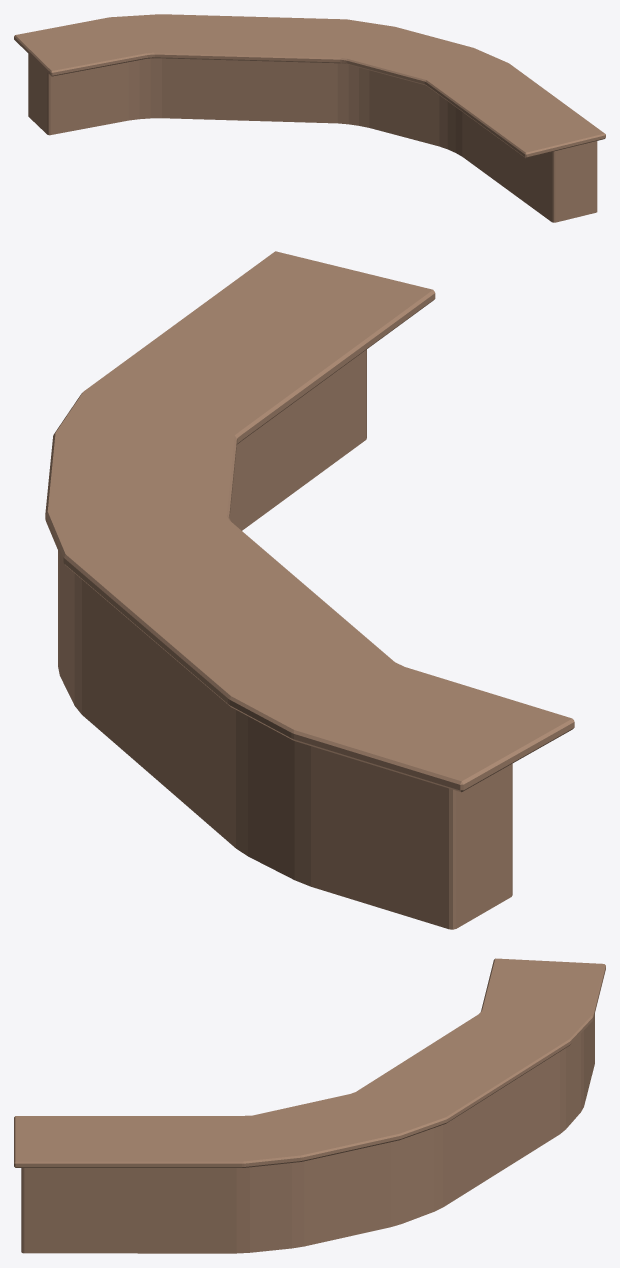
Rendered from big_table.fbx.
The picture shows the model from 3 angles, top to bottom: view 1: azimuth 30°, elevation 25°; view 2: azimuth 150°, elevation 25°; view 3: azimuth 270°, elevation 25°; orthographic projection. The views are drawn at different scales.
Visible parts, largest first — view 1: table; view 2: table; view 3: table.
Part boxes in pixels (x1,y1,x2,y2): table: (14,14,605,222); table: (45,251,574,929); table: (14,958,605,1253).
Size of the model in its own units: 392 by 84.33 by 480.
